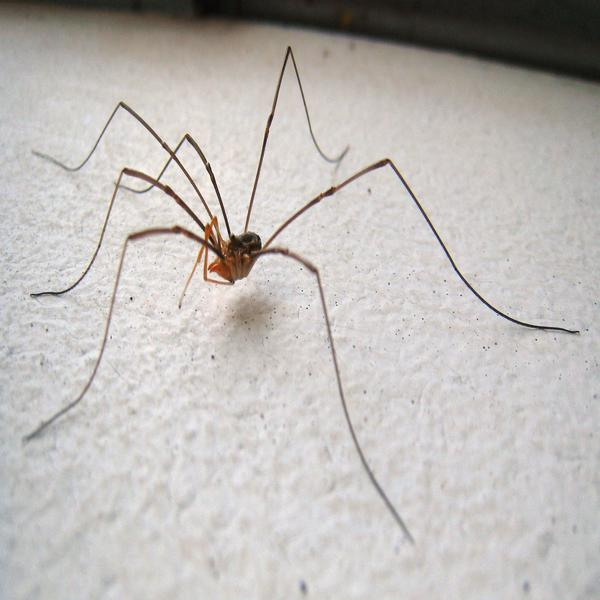Daddy Long Legs Spider: (33, 46, 570, 542)
